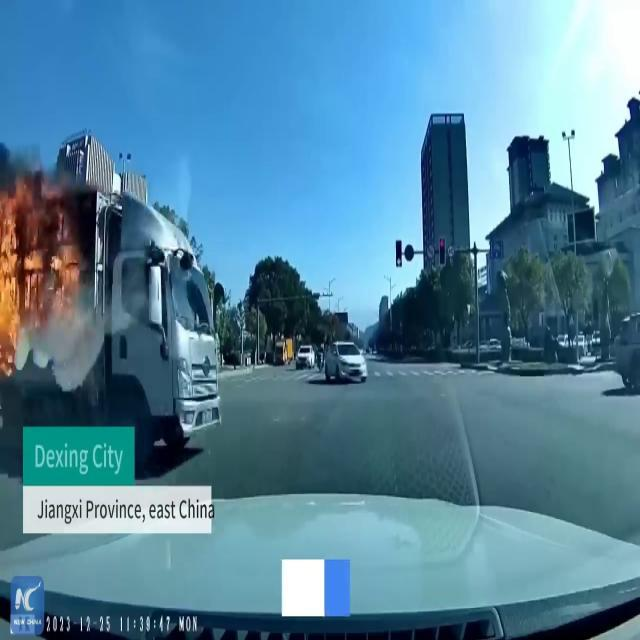Fire: (0, 156, 78, 369)
